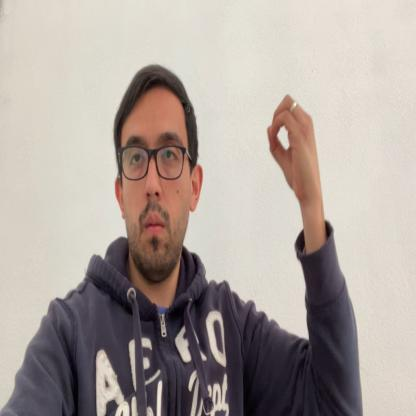O: (267, 92, 322, 206)
